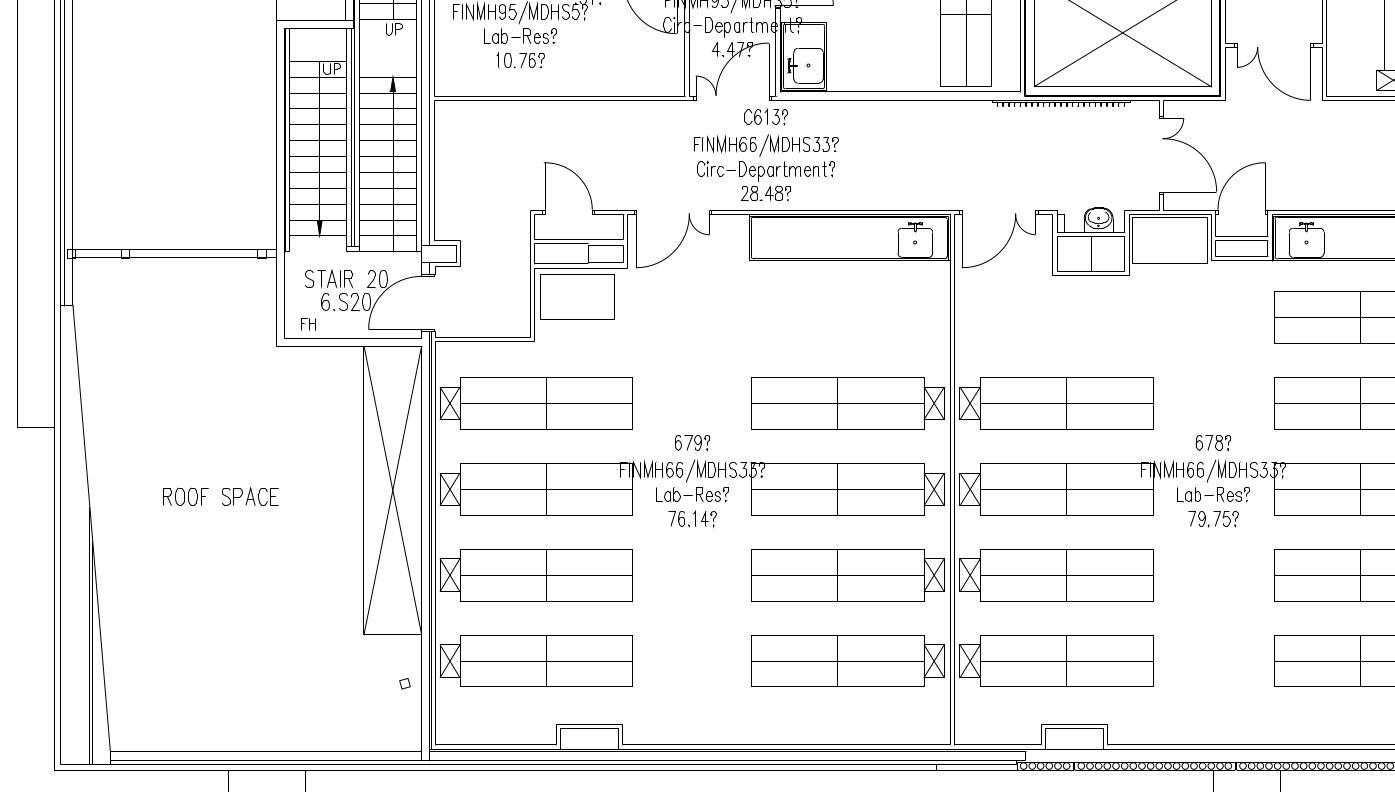door: (1144, 138, 1218, 204), (1255, 36, 1313, 109), (364, 268, 421, 335), (536, 150, 593, 217), (714, 40, 771, 107), (633, 207, 690, 274), (959, 203, 1016, 270), (1215, 151, 1268, 211), (1232, 36, 1258, 75), (1161, 113, 1188, 141), (693, 72, 716, 102)
